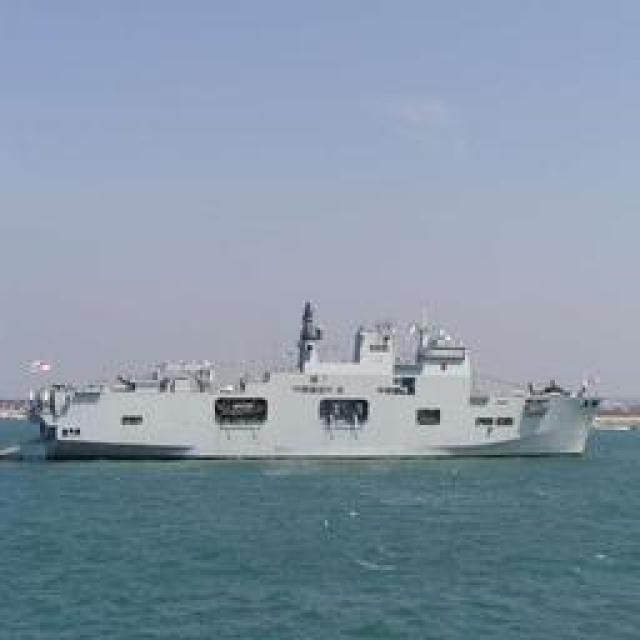CIV_Ship: (12, 305, 600, 463)
